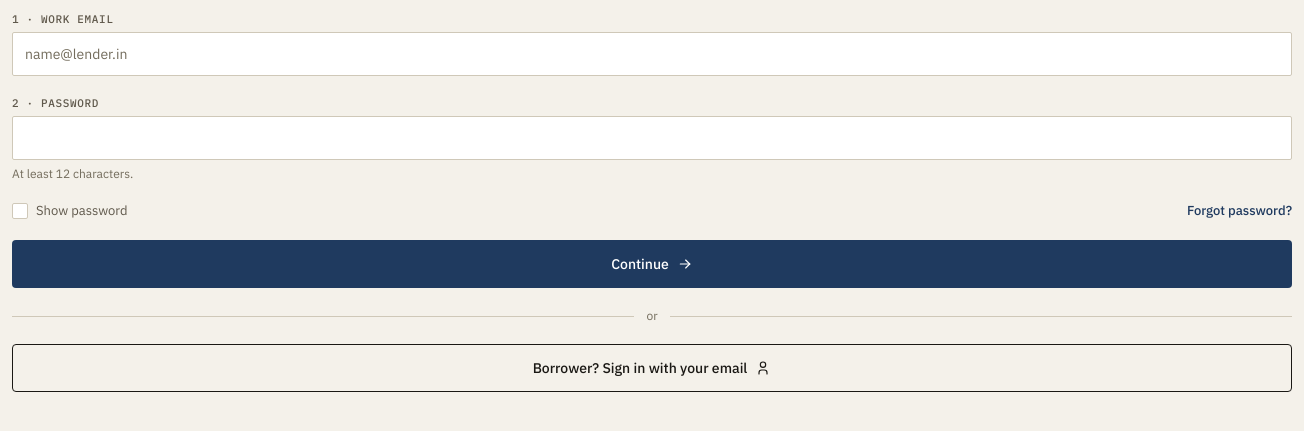
SignInForm › shows field errors and does not submit when empty
Click the button "Continue": (652, 264) [12,240,1292,288]
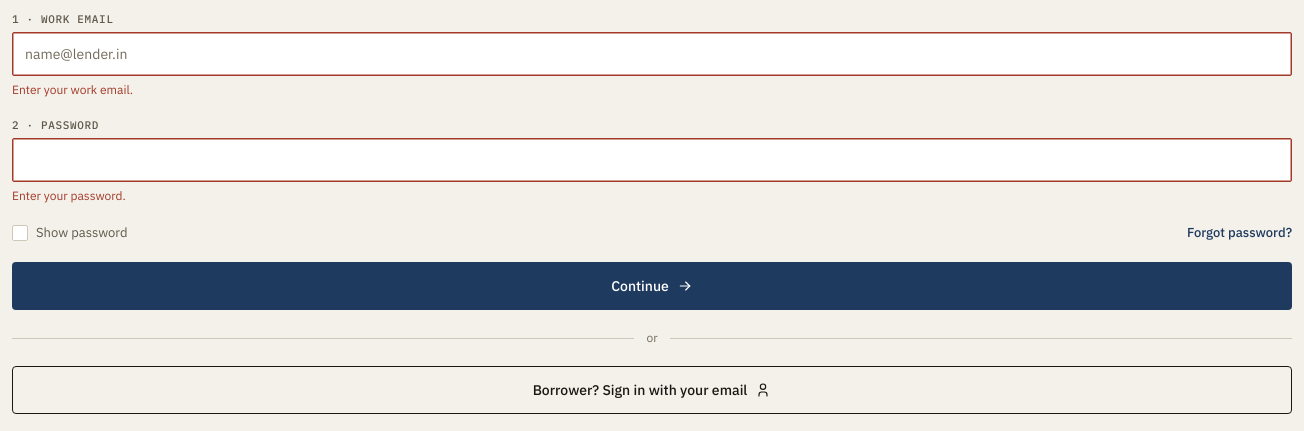
Check: the text "Enter your work email." is shown, box [12,82,133,97]
Check: the text "Enter your password." is shown, box [12,188,126,203]
